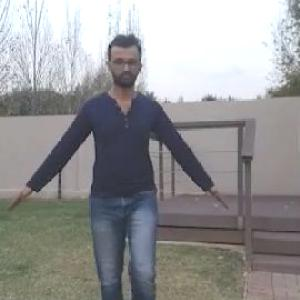land: (27, 32, 219, 299)
